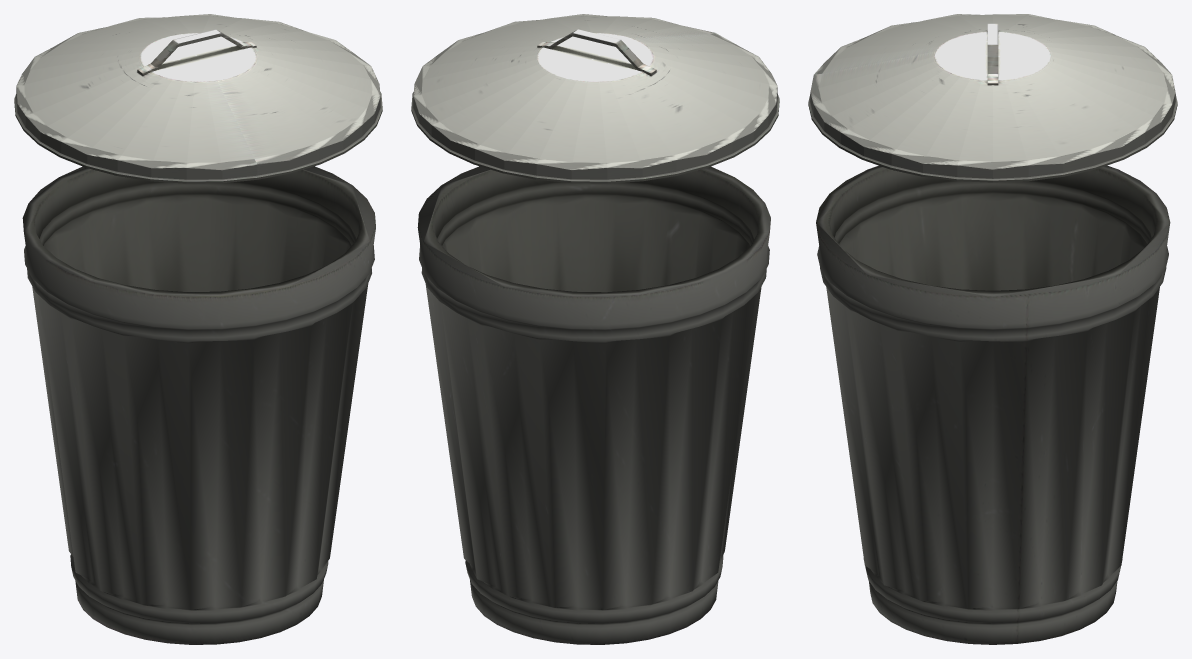
Rendered from bin.glb.
The picture shows the model from 3 angles, left to right: view 1: azimuth 30°, elevation 25°; view 2: azimuth 150°, elevation 25°; view 3: azimuth 270°, elevation 25°; orthographic projection.
Visible parts, largest first — view 1: Cylinder.003, Cylinder.007; view 2: Cylinder.003, Cylinder.007; view 3: Cylinder.003, Cylinder.007.
Boxes of the visible parts, box(x1,y1,x2,y2) form: Cylinder.003: box(22, 166, 375, 644); Cylinder.007: box(14, 14, 382, 183); Cylinder.003: box(417, 166, 770, 644); Cylinder.007: box(411, 14, 779, 183); Cylinder.003: box(816, 165, 1170, 644); Cylinder.007: box(808, 14, 1177, 182).
Size of the model in its own units: 0.9843 by 1.64 by 0.9843.
Materials: 1 (1 with a texture image).
